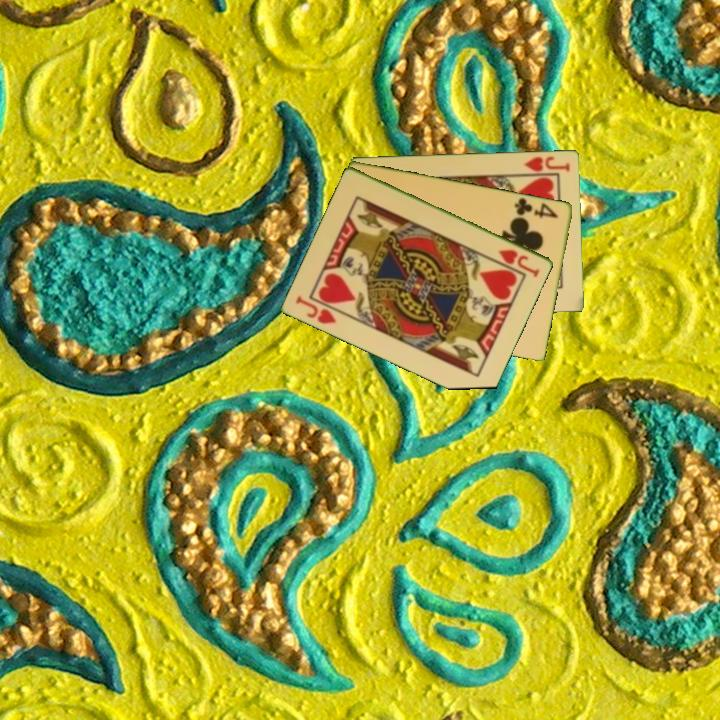4c: (511, 194, 561, 221)
Jh: (292, 292, 340, 327), (496, 246, 543, 280), (521, 152, 573, 174)
